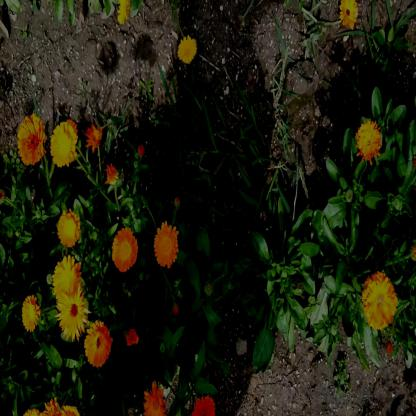marigold: (362, 273, 397, 328), (57, 286, 86, 339), (18, 114, 46, 166), (52, 258, 80, 302), (82, 320, 109, 364), (112, 227, 138, 272), (51, 119, 76, 164), (357, 119, 383, 160), (153, 226, 175, 267), (142, 379, 166, 412), (57, 212, 78, 248), (21, 296, 40, 331), (177, 36, 199, 62)
